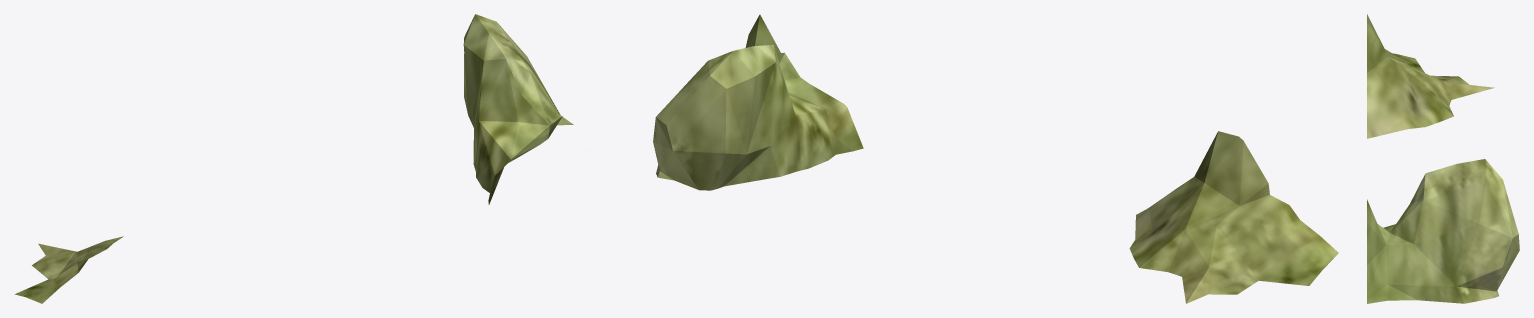
The picture shows the model from 3 angles, left to right: view 1: azimuth 30°, elevation 25°; view 2: azimuth 150°, elevation 25°; view 3: azimuth 270°, elevation 25°; orthographic projection. The views are drawn at different scales.
Bounding box in the file's own units: 1.99 × 0.4195 × 0.5236.
1 material, 1 textured.
